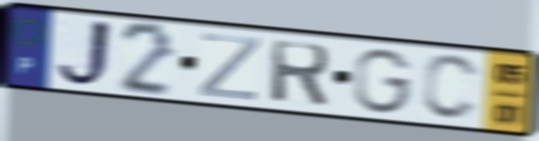2: (116, 18, 182, 99)
C: (419, 52, 483, 124)
G: (352, 46, 416, 117)
J: (53, 16, 116, 92)
R: (268, 38, 334, 110)
Z: (196, 30, 265, 104)
